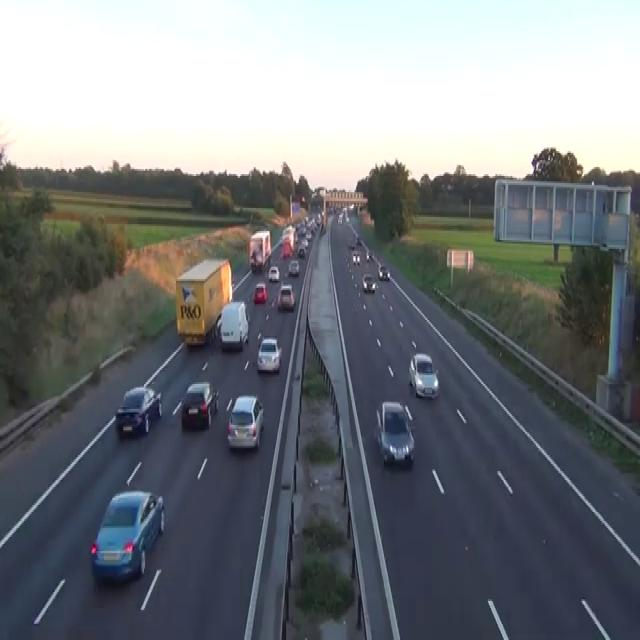Car: (90, 489, 165, 585), (375, 400, 415, 466), (114, 384, 162, 437), (226, 393, 264, 450), (181, 381, 219, 428), (218, 300, 249, 350), (408, 352, 439, 398), (256, 336, 281, 372), (277, 283, 295, 311), (362, 272, 376, 292), (253, 283, 267, 302), (250, 251, 262, 272), (378, 263, 390, 281), (280, 242, 291, 260), (282, 224, 295, 238), (268, 265, 279, 281), (288, 260, 299, 276), (216, 313, 222, 336), (297, 244, 306, 258), (352, 251, 360, 265), (347, 236, 354, 249), (366, 249, 373, 261), (320, 222, 326, 235), (315, 213, 321, 224), (446, 182, 454, 190), (355, 235, 361, 245), (305, 231, 311, 240), (348, 202, 354, 210), (311, 190, 317, 198), (337, 215, 342, 224), (366, 251, 370, 261), (345, 215, 349, 222)
Truck: (175, 256, 232, 347), (248, 229, 271, 272), (281, 224, 297, 252)
